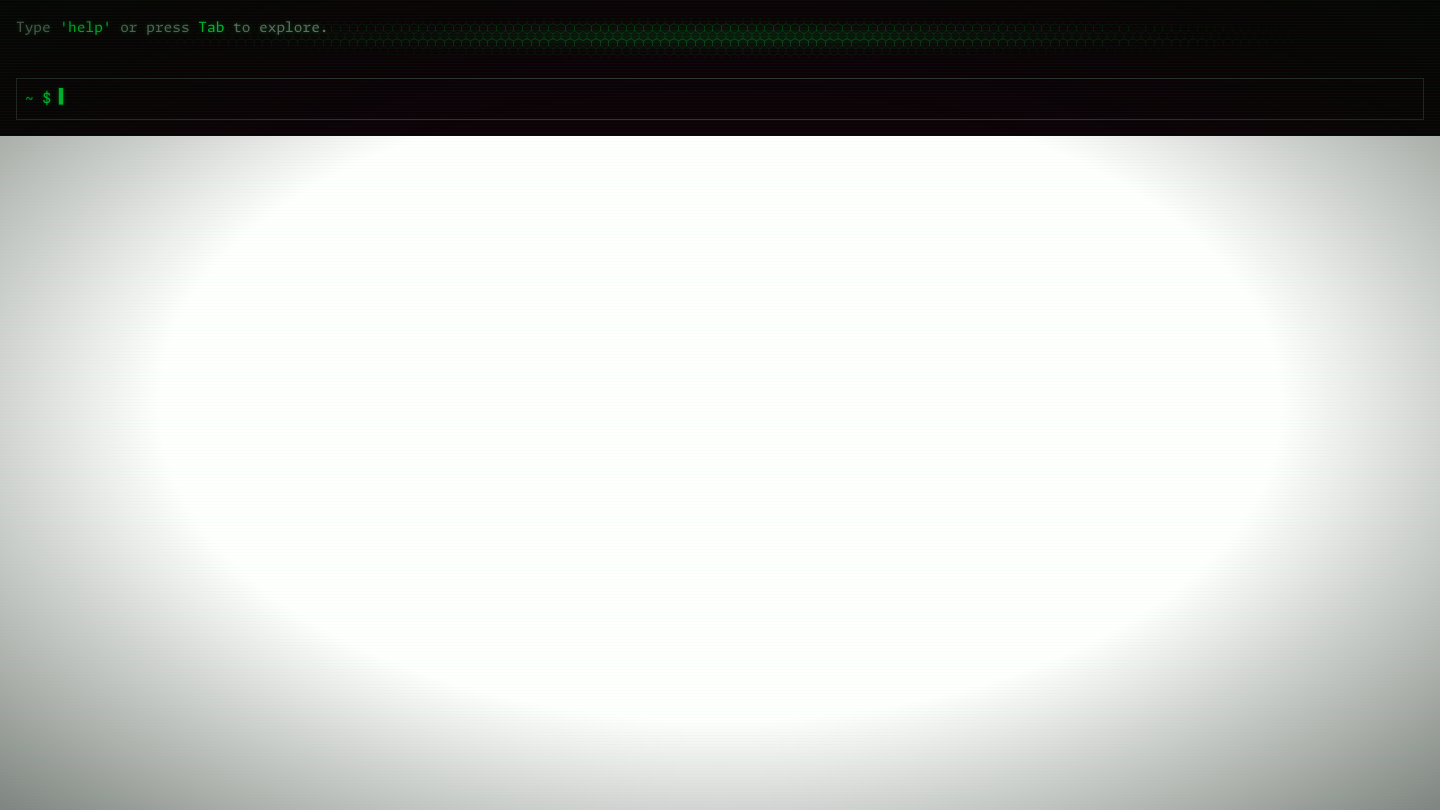
it: Terminal › renders known command output after spinner delay
Later steps or results of the test are not shown.
Type "history" into the field at coordinates (737, 100), box [59,90,1415,110]
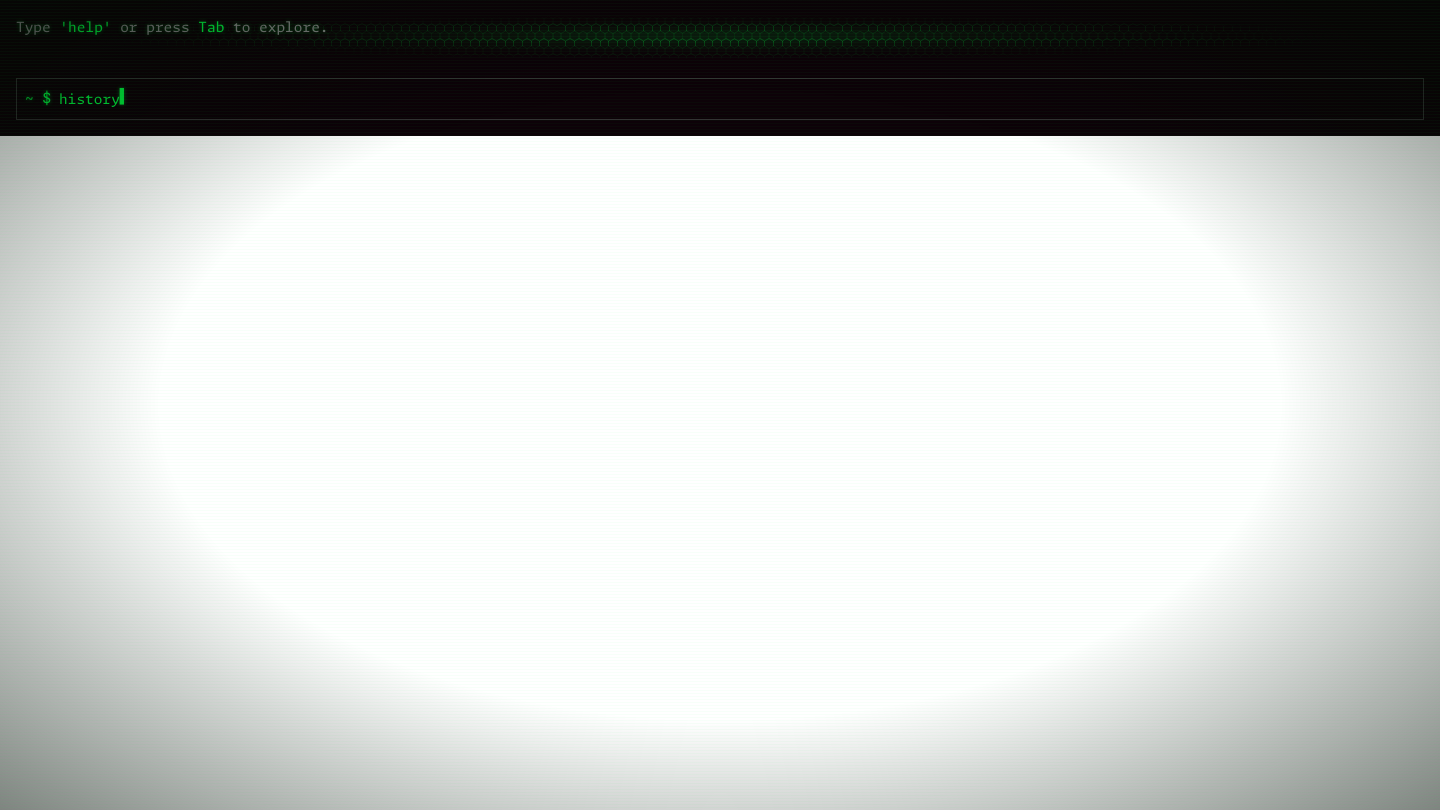
Press Enter in the field, box [59,90,1415,110]
Wait 600 ms
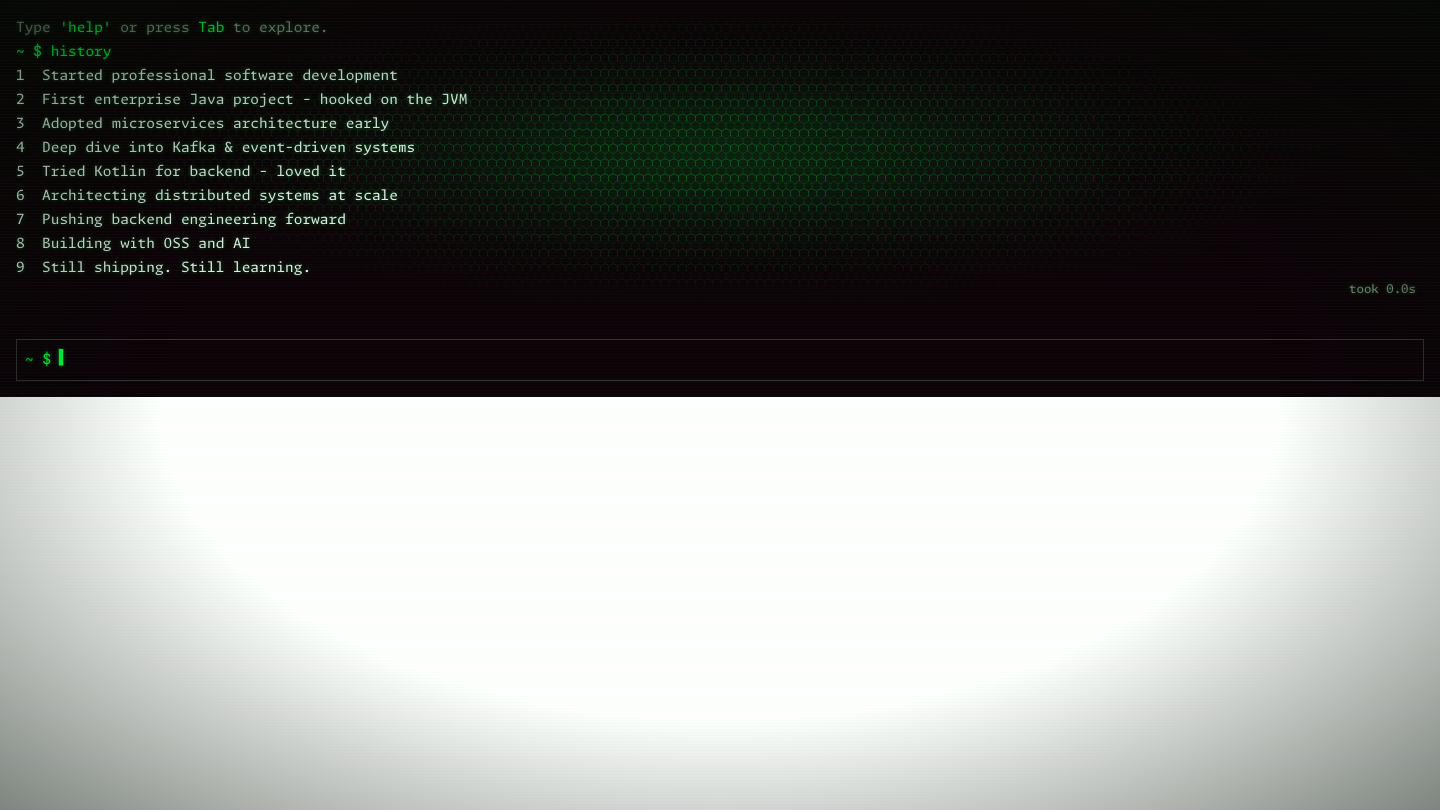
Now the text "9 Still shipping. Still learning." is shown, box [16,261,311,275]
